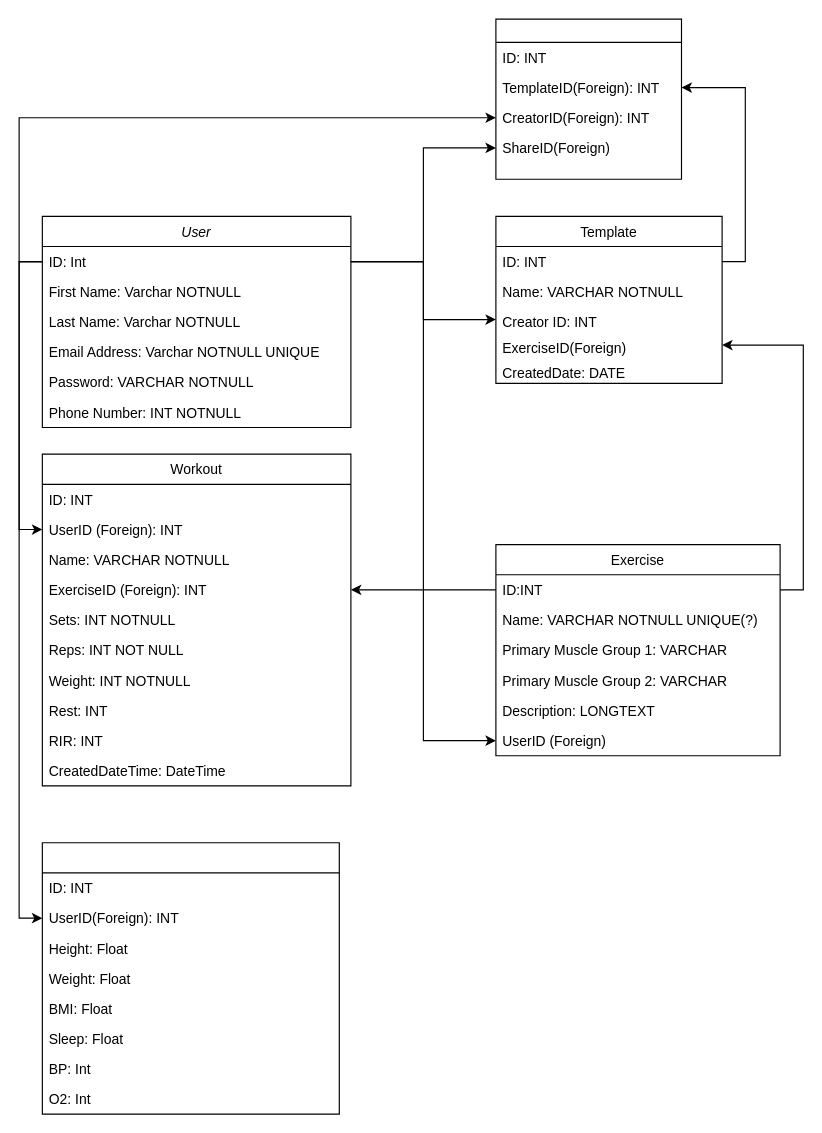
Image size: 822x1133. Some labels were removed from this diagram. Each missing label, with the box of its shape:
Metrics: (41, 842, 339, 1114)
TemplateShare: (495, 18, 682, 179)
